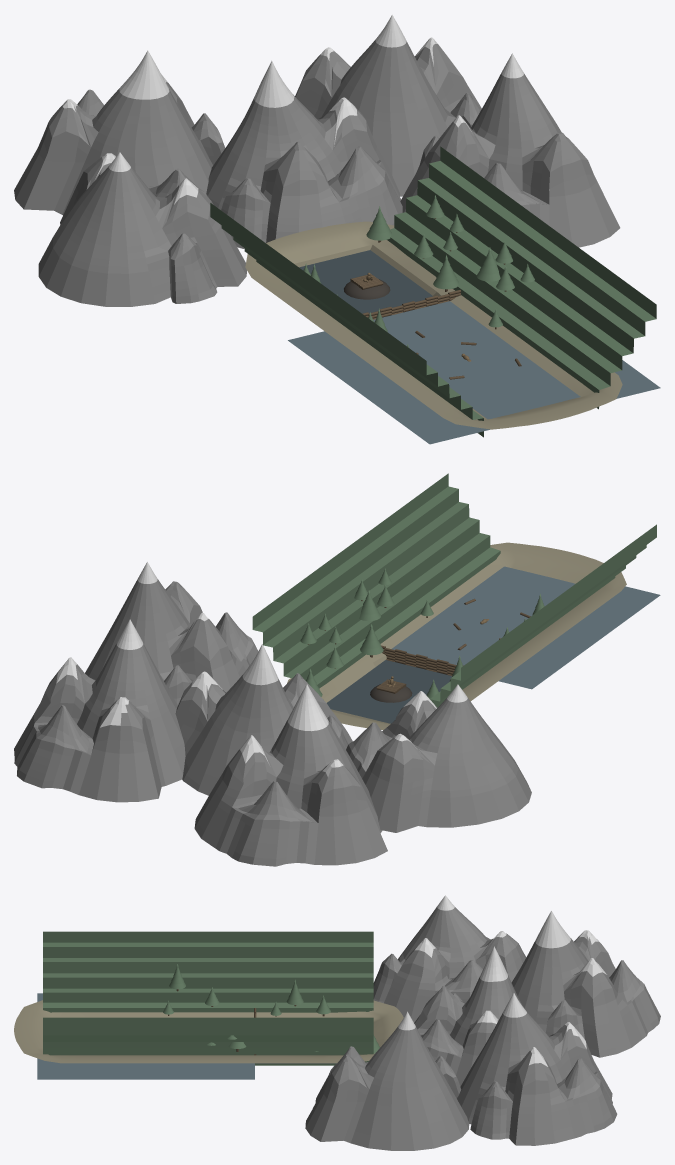
File: Blockout_Environment.fbx
3 views of the same model, one above another, from view 1: azimuth 30°, elevation 25°; view 2: azimuth 150°, elevation 25°; view 3: azimuth 270°, elevation 25° (orthographic). The views are drawn at different scales.
Visible parts, largest first — view 1: Blockout_MountainousElevation, Blockout_Mountain2, Blockout_Mountain, Blockout_River, Blockout_Mountain3, Blockout_Mountain1, Blockout_Mountain4, Blockout_SandbankFlat, Blouckout_Lake; view 2: Blockout_MountainousElevation, Blockout_Mountain3, Blockout_Mountain4, Blockout_Mountain2, Blockout_River, Blockout_Mountain, Blockout_Mountain1, Blockout_SandbankFlat, Blouckout_Lake; view 3: Blockout_MountainousElevation, Blockout_Mountain4, Blockout_Mountain1, Blockout_Mountain3, Blockout_Mountain2, Blockout_SandbankFlat, Blockout_Mountain, Blockout_River.
Boxes of the visible parts, bbox=[...] form: Blockout_MountainousElevation: bbox=[210, 146, 656, 437]; Blockout_Mountain2: bbox=[38, 152, 246, 306]; Blockout_Mountain: bbox=[206, 61, 402, 248]; Blockout_River: bbox=[288, 301, 660, 444]; Blockout_Mountain3: bbox=[14, 50, 225, 214]; Blockout_Mountain1: bbox=[400, 53, 620, 247]; Blockout_Mountain4: bbox=[295, 15, 481, 196]; Blockout_SandbankFlat: bbox=[245, 221, 622, 429]; Blouckout_Lake: bbox=[299, 250, 432, 313]; Blockout_MountainousElevation: bbox=[252, 473, 656, 707]; Blockout_Mountain3: bbox=[194, 684, 387, 866]; Blockout_Mountain4: bbox=[14, 619, 185, 802]; Blockout_Mountain2: bbox=[346, 684, 531, 832]; Blockout_River: bbox=[391, 566, 660, 689]; Blockout_Mountain: bbox=[175, 644, 352, 795]; Blockout_Mountain1: bbox=[85, 562, 258, 704]; Blockout_SandbankFlat: bbox=[287, 542, 626, 730]; Blouckout_Lake: bbox=[327, 660, 451, 723]; Blockout_MountainousElevation: bbox=[43, 931, 373, 1065]; Blockout_Mountain4: bbox=[457, 993, 617, 1145]; Blockout_Mountain1: bbox=[305, 1011, 469, 1150]; Blockout_Mountain3: bbox=[511, 911, 660, 1057]; Blockout_Mountain2: bbox=[373, 895, 526, 1022]; Blockout_SandbankFlat: bbox=[14, 1000, 403, 1063]; Blockout_Mountain: bbox=[414, 946, 524, 1086]; Blockout_River: bbox=[37, 993, 254, 1079].
Bounding box in the file's own units: 3683 × 1029 × 5307.
